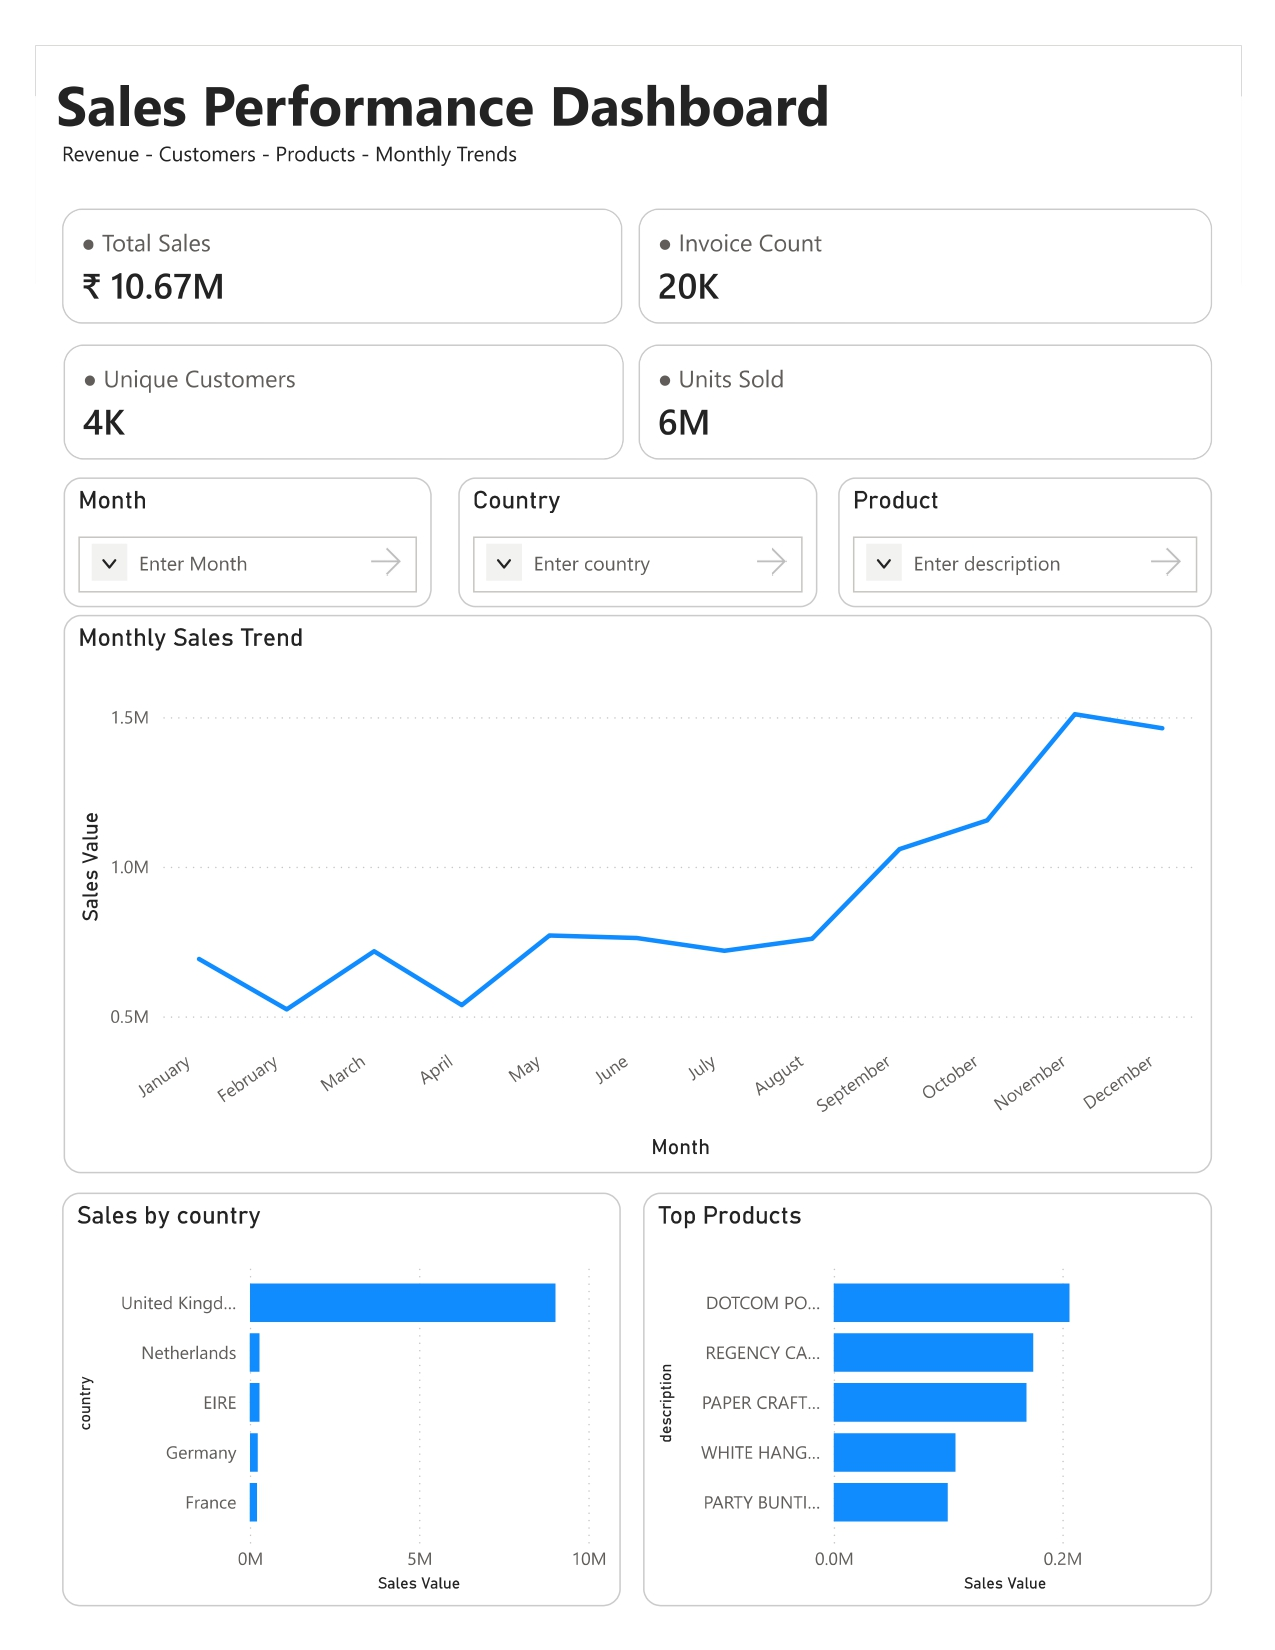

Layout of this report page (visuals, bound fields, positions):
{"tool":"powerbi","page":{"name":"Sales Overview","canvas":[816,1056],"ordinal":0},"visuals":[{"type":"cardVisual","fields":{"Data":["retail_transactions.Sales Value"]},"box":[18,110,379,78],"z":0},{"type":"cardVisual","fields":{"Data":["retail_transactions.Invoice Count"]},"box":[408,110,388,78],"z":1000},{"type":"cardVisual","fields":{"Data":["retail_transactions.Units Sold"]},"box":[408,202,388,78],"z":2000},{"type":"cardVisual","fields":{"Data":["retail_transactions.Unique Customers"]},"box":[19,202,379,78],"z":3000},{"type":"lineChart","title":"Monthly Sales Trend","fields":{"Category":["retail_transactions.invoicedate.Variation.Date Hierarchy.Month"],"Y":["retail_transactions.Sales Value"]},"box":[19,385,777,378],"z":4000},{"type":"barChart","title":"Sales by country","fields":{"Y":["retail_transactions.Sales Value"],"Category":["retail_transactions.country"]},"box":[18,776,378,280],"z":5000},{"type":"barChart","title":"Top Products","fields":{"Y":["retail_transactions.Sales Value"],"Category":["retail_transactions.description"]},"box":[411,776,385,280],"z":6000},{"type":"textbox","box":[9,9,777,82],"z":7000},{"type":"textSlicer","title":"Country","fields":{"Values":["retail_transactions.country"]},"box":[286,292,243,88],"z":8000},{"type":"textSlicer","title":"Product","fields":{"Values":["retail_transactions.description"]},"box":[543,292,253,88],"z":9000},{"type":"textSlicer","fields":{"Values":["retail_transactions.invoicedate.Variation.Date Hierarchy.Month"]},"box":[19,292,249,88],"z":10000}]}

Visuals, with their boxes in screenshot pixels (x1, y1, x2, y2), scaled from the page's 816x1056 canvas onto the 1275x1650 screenshot:
cardVisual - retail_transactions.Sales Value: bbox(28, 172, 620, 294)
cardVisual - retail_transactions.Invoice Count: bbox(638, 172, 1244, 294)
cardVisual - retail_transactions.Units Sold: bbox(638, 316, 1244, 438)
cardVisual - retail_transactions.Unique Customers: bbox(30, 316, 622, 438)
"Monthly Sales Trend" lineChart: bbox(30, 602, 1244, 1192)
"Sales by country" barChart: bbox(28, 1212, 619, 1649)
"Top Products" barChart: bbox(642, 1212, 1244, 1649)
textbox: bbox(14, 14, 1228, 142)
"Country" textSlicer: bbox(447, 456, 827, 594)
"Product" textSlicer: bbox(848, 456, 1244, 594)
textSlicer - retail_transactions.invoicedate.Variation.Date Hierarchy.Month: bbox(30, 456, 419, 594)
